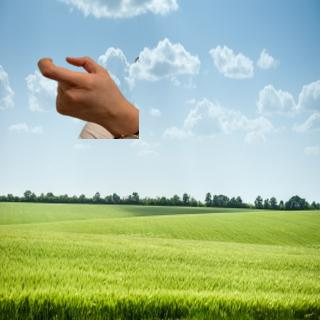HATE: (33, 49, 125, 130)
